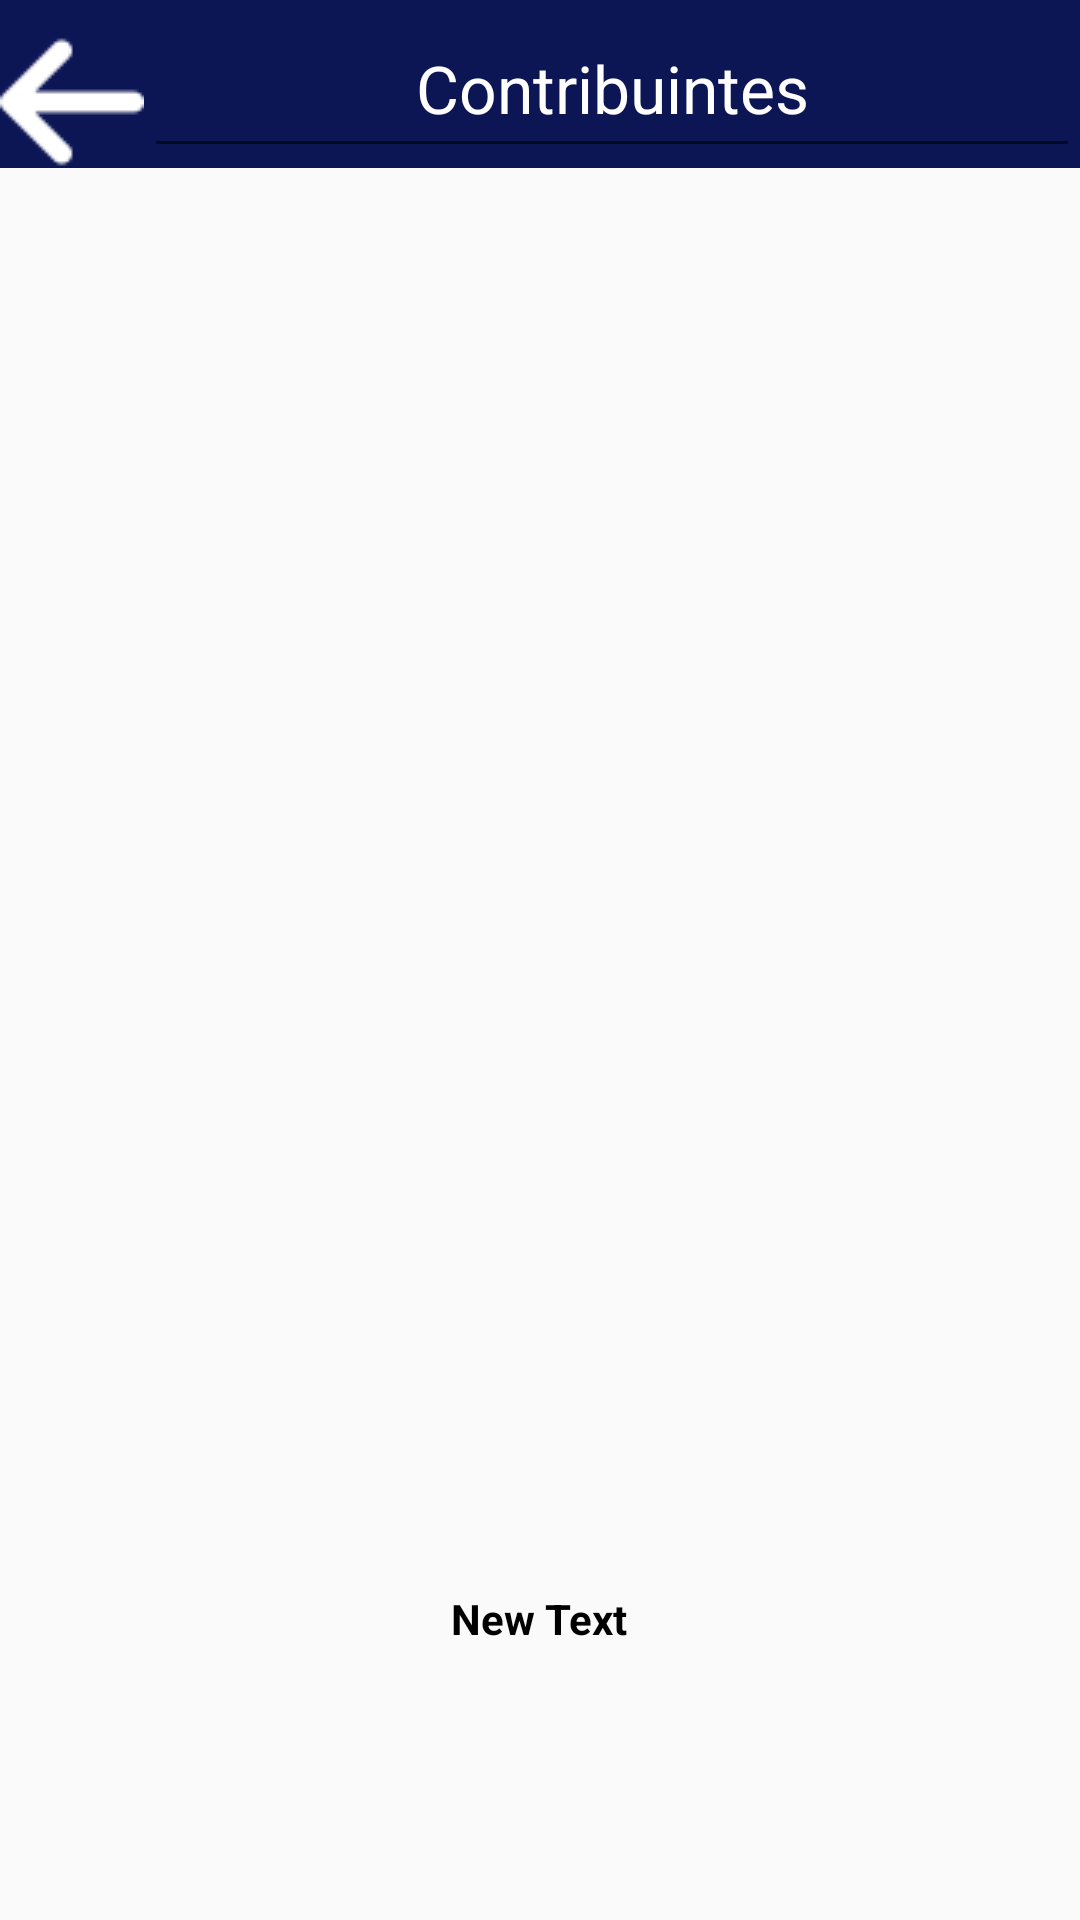

Where icons sit on this 1080*1920 app screen, as (x1, y1, x2, y2):
voltar: (0, 38, 144, 166)
